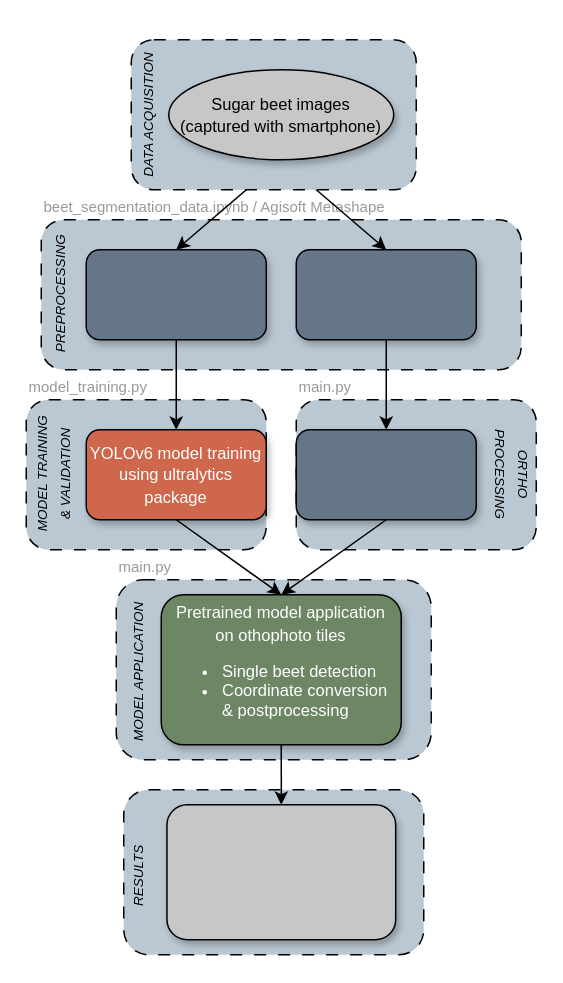
Some shapes in this 563 by 983 pixel diagram are drawn without their labels. The shapes that lost their labels are listed below. From the top down, each one's centre as x and y in pixels, then its label:
At point 177,296: "Data labeling and custom dataset generation".
At point 387,296: "Orthophoto generation using GCPs".
At point 387,476: "Orthophoto tiling".
At point 282,873: "Geospatial information on sugar beets Plant count Plant density".
